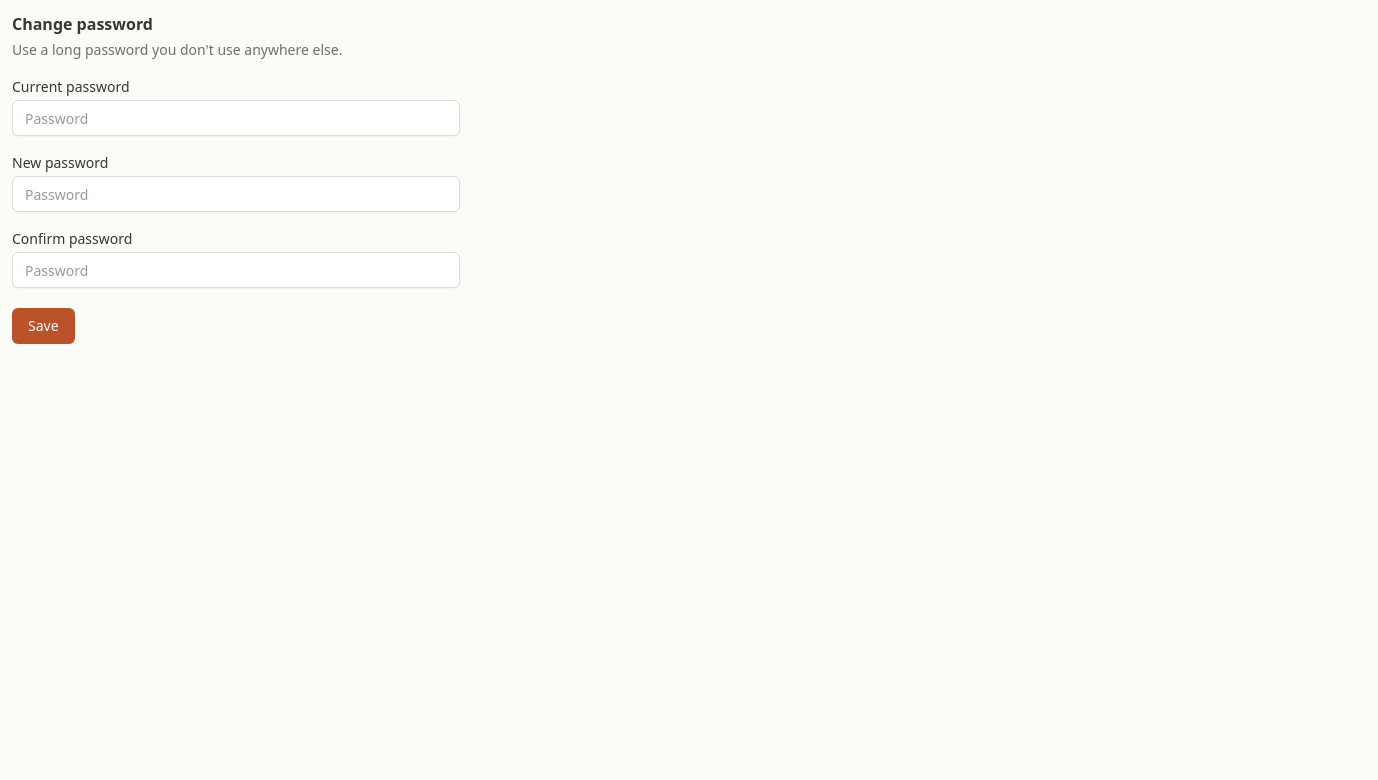
it: ChangePassword form › recovers from a network error with no response body
The width and height of the screenshot is (1378, 780).
Type "oldpassword123" into the password field labelled "Current password".
click(236, 118); type("oldpassword123")  # box 12,100 -> 460,136
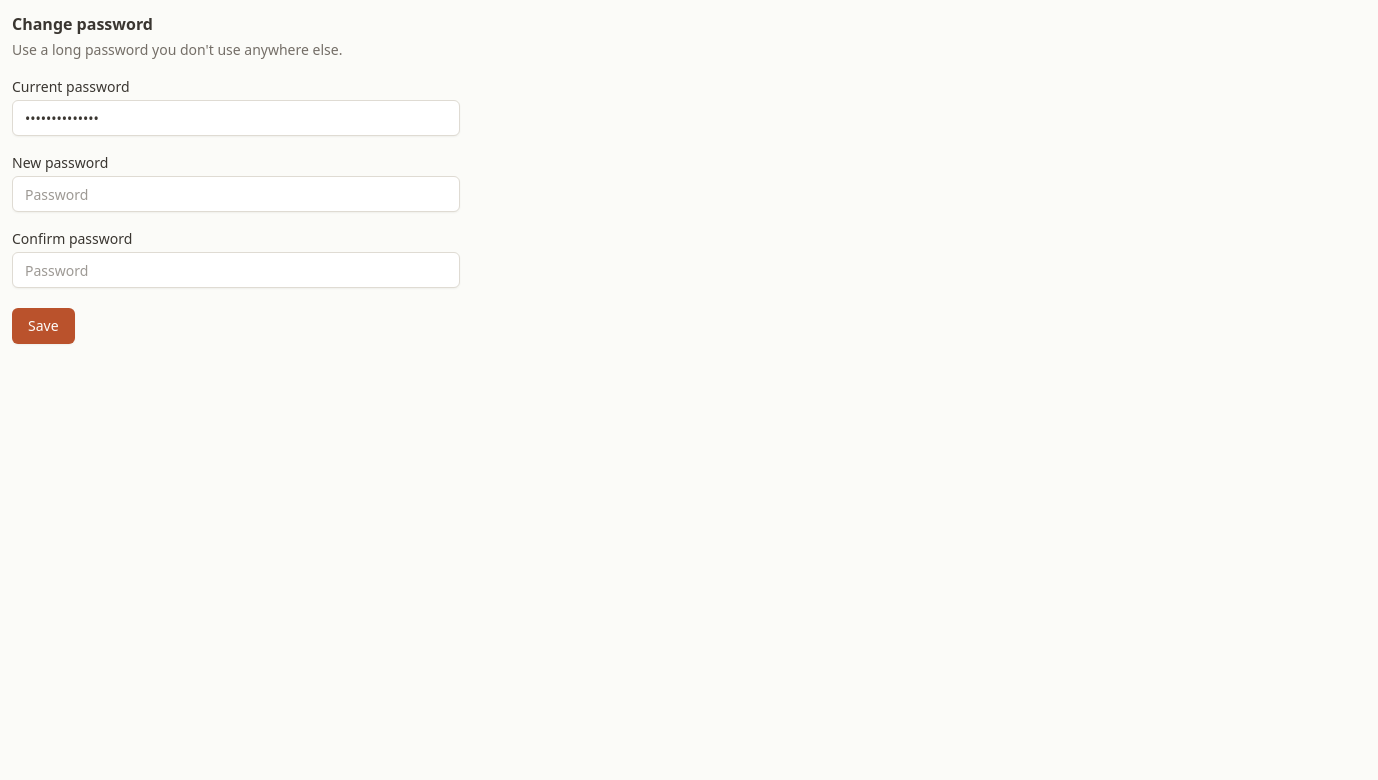
Type "newpassword123" into the password field labelled "New password".
click(236, 194); type("newpassword123")  # box 12,176 -> 460,212
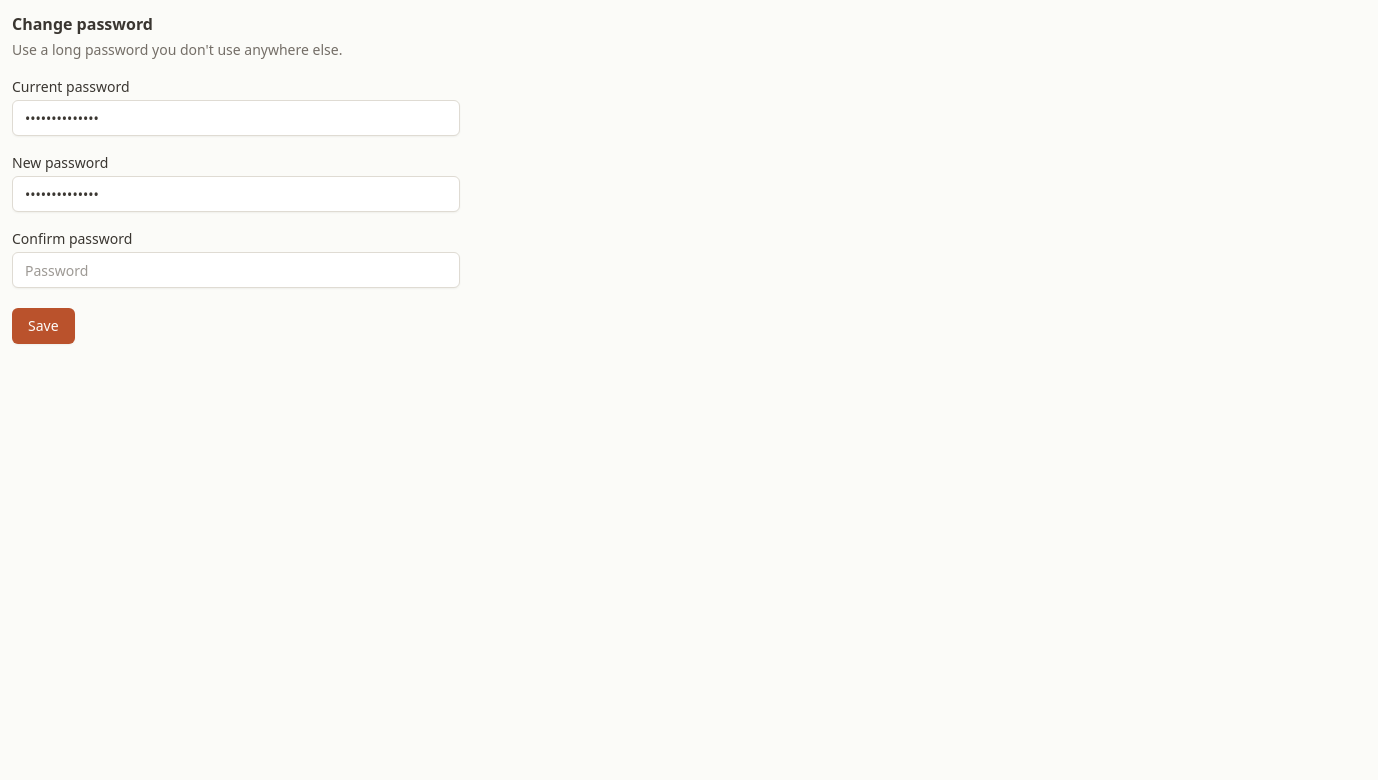
Type "newpassword123" into the password field labelled "Confirm password".
click(236, 270); type("newpassword123")  # box 12,252 -> 460,288
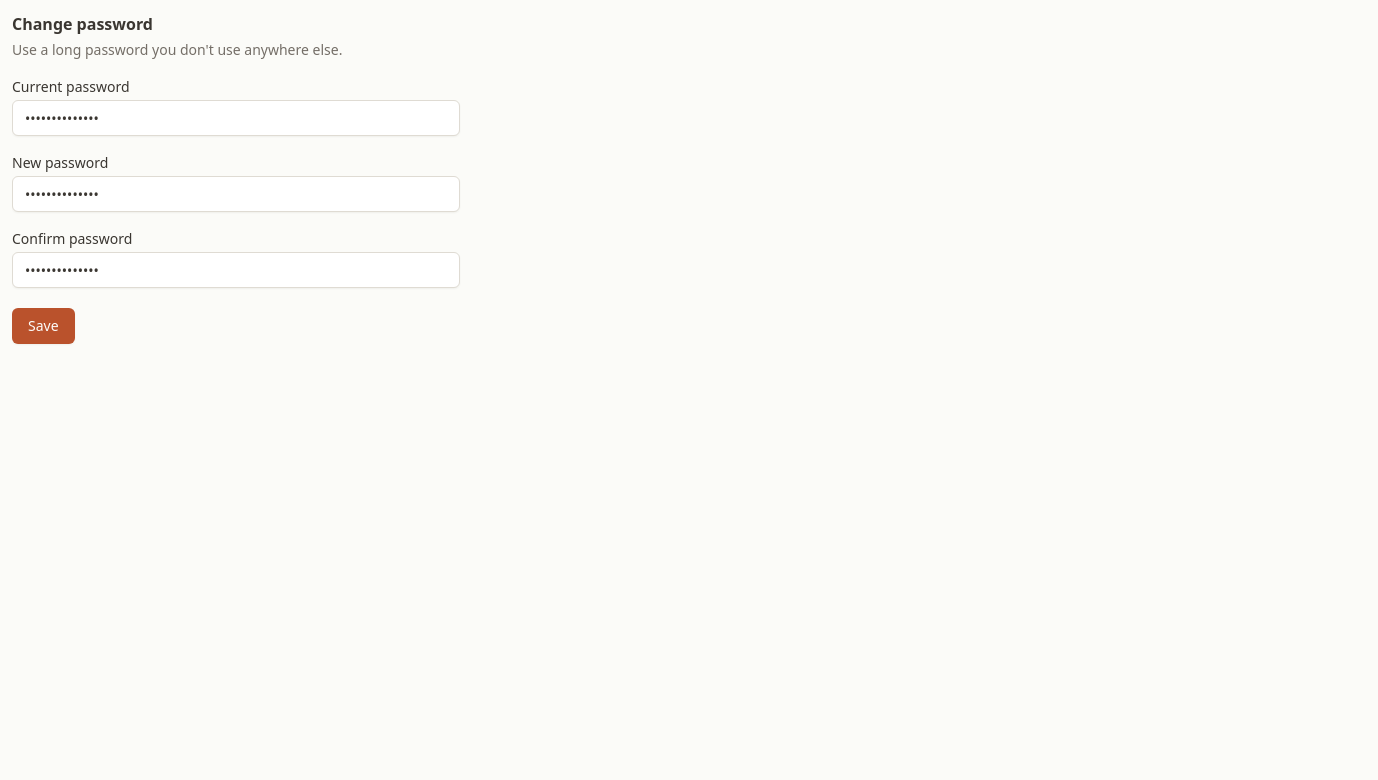
Click the button "Save".
click(43, 326)  # box 12,308 -> 75,344
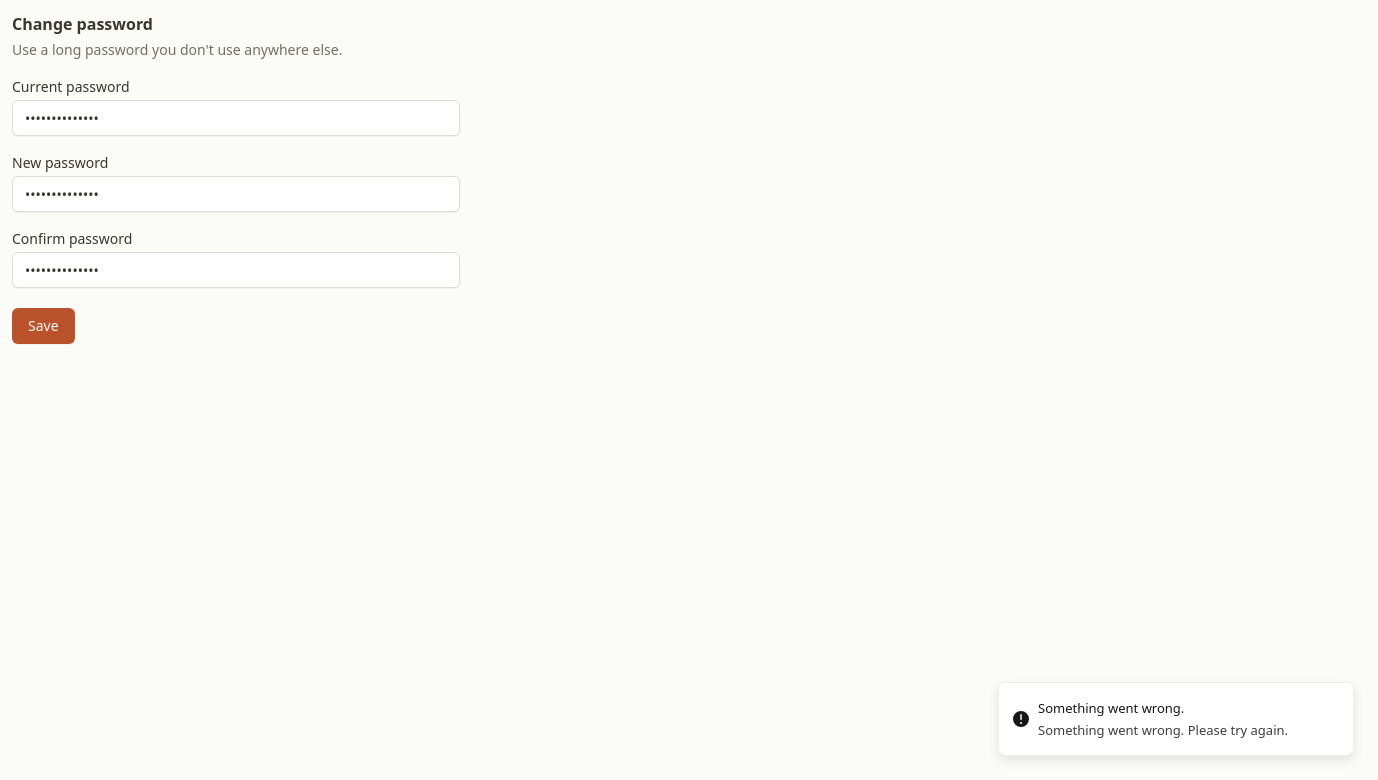
Check: the text "Something went wrong." is shown, box 1038,699 -> 1184,717
Check: the text "Something went wrong. Please try again." is shown, box 1038,721 -> 1288,739
